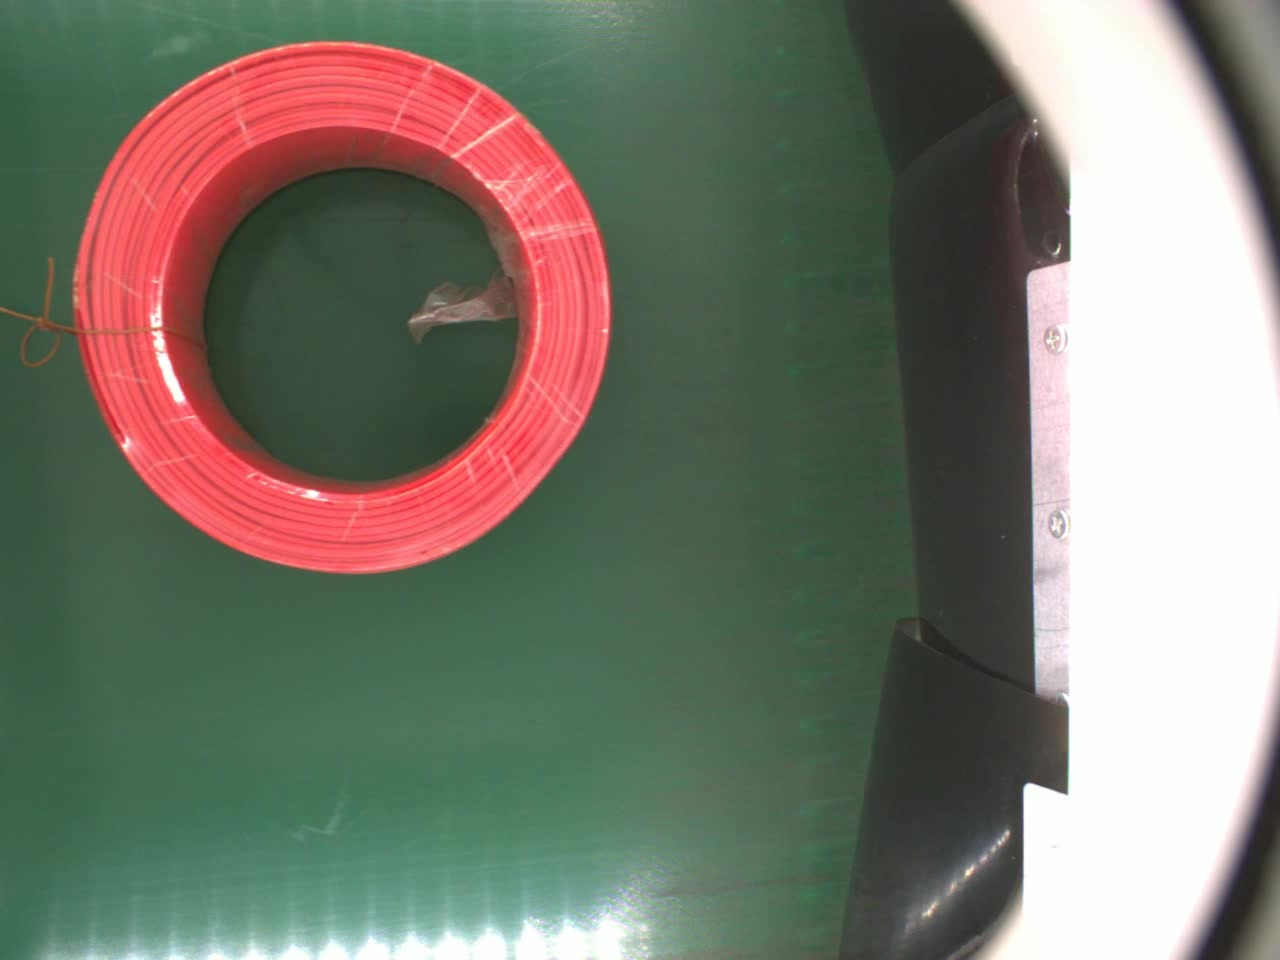red: (65, 32, 612, 583)
